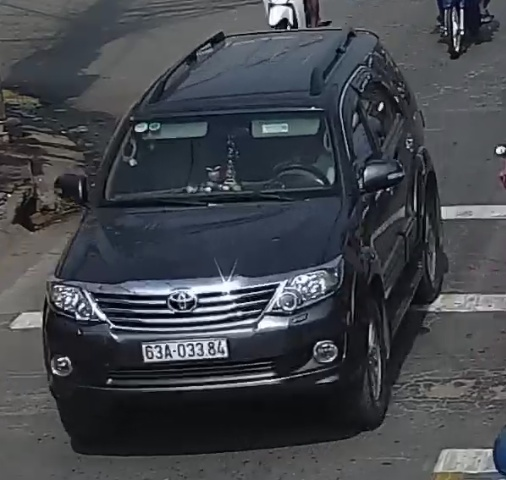vehicle plate: (135, 338, 236, 364)
